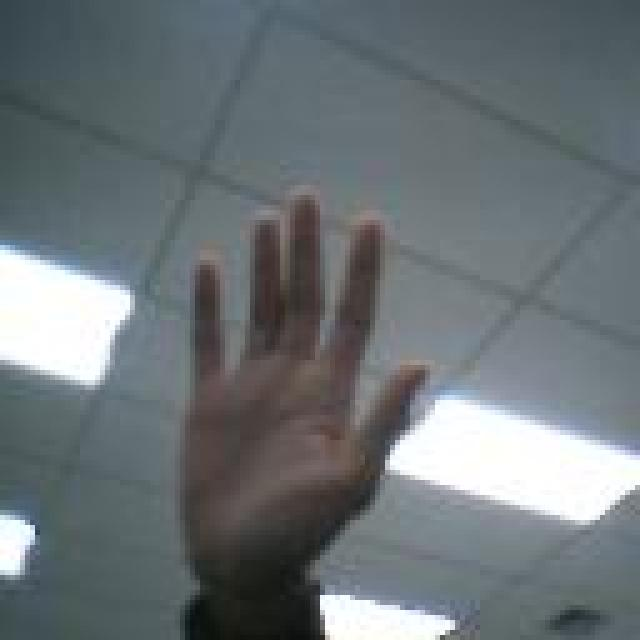hand: (180, 185, 430, 585)
